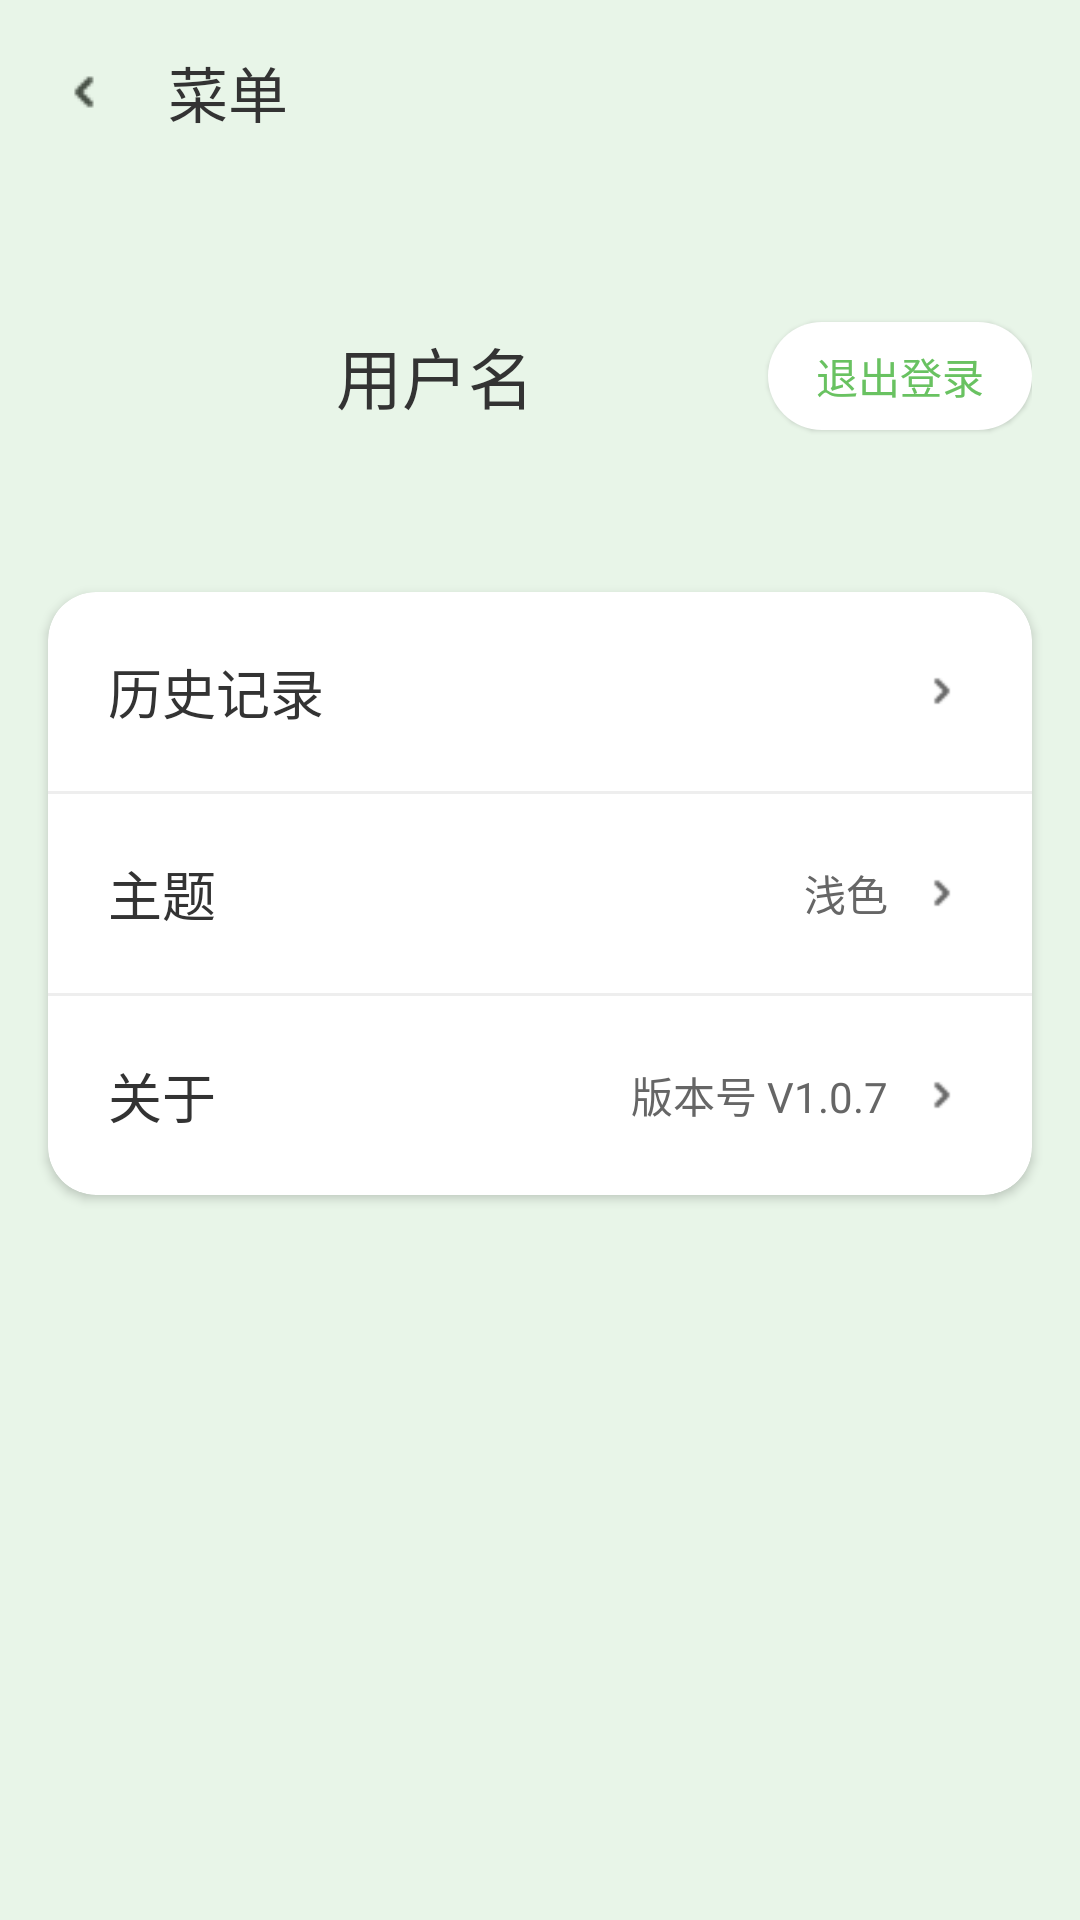

Where to tap for icons on this 1080px×1920px app screen, as point (x, y):
direction right: point (942, 691), point (942, 893), point (942, 1095)
返回: point (84, 92)
